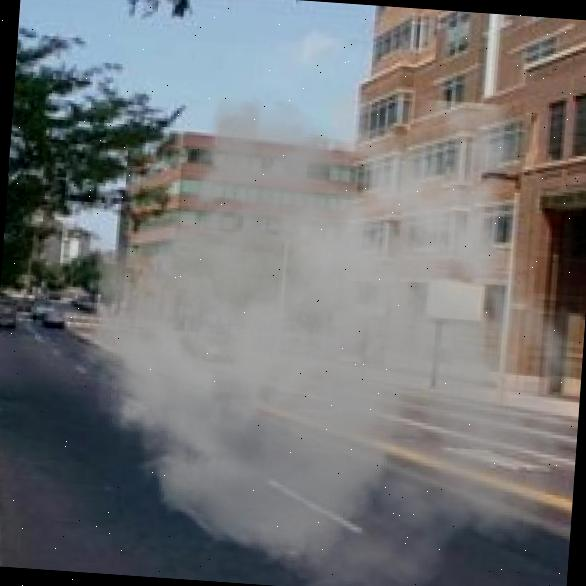smoke: (52, 75, 586, 586)
